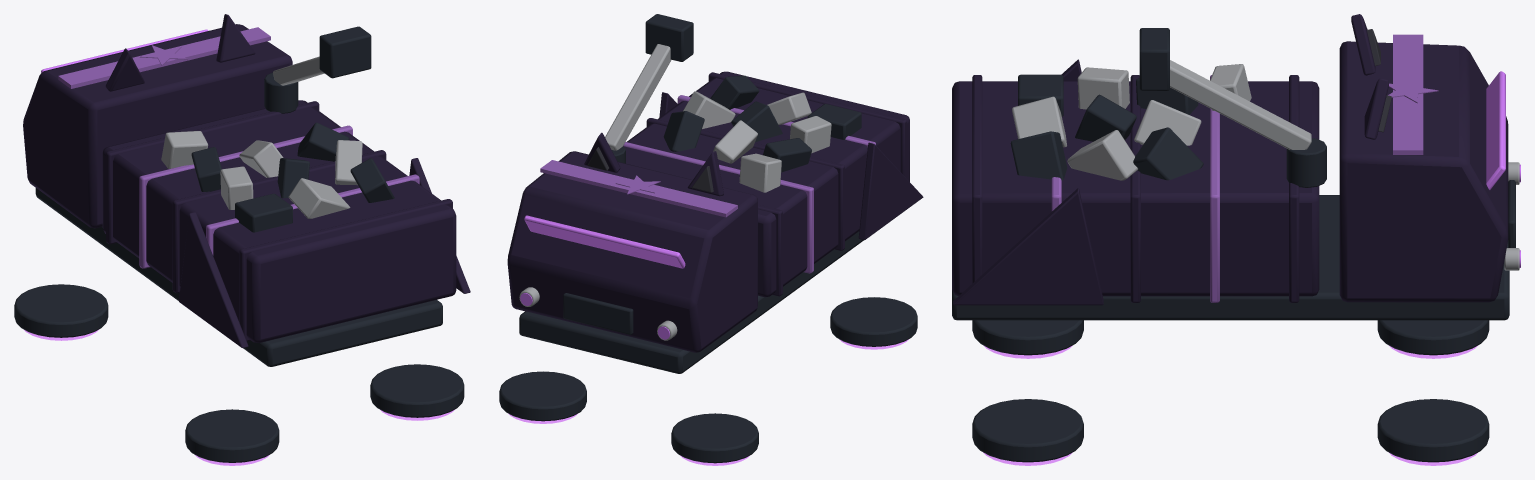
The model's file is katzen_sammler.glb.
The picture shows the model from 3 angles, left to right: view 1: azimuth 30°, elevation 25°; view 2: azimuth 150°, elevation 25°; view 3: azimuth 270°, elevation 25°; orthographic projection. The views are drawn at different scales.
Visible parts, largest first — view 1: bin, cab, frame, pad_1_-1, pad_-1_1, pad_-1_-1, fin_-1, cab_roof_stripe, claw, rib_0, scrap_0, rib_4 (+17 smaller); view 2: cab, bin, frame, pad_-1_-1, pad_1_1, pad_-1_1, fin_-1, cab_roof_stripe, cab_window, arm, grill, claw (+16 smaller); view 3: bin, cab, frame, fin_1, pad_1_1, pad_1_-1, arm, pad_-1_1, pad_-1_-1, cab_roof_stripe, scrap_8, rib_0 (+17 smaller).
Part boxes in pixels (<box>): bin: <box>102,100,456,342</box>; cab: <box>23,24,292,228</box>; frame: <box>35,188,442,366</box>; pad_1_-1: <box>370,364,464,417</box>; pad_-1_1: <box>14,284,108,337</box>; pad_-1_-1: <box>185,409,279,462</box>; fin_-1: <box>178,212,248,347</box>; cab_roof_stripe: <box>58,27,270,88</box>; claw: <box>319,26,371,78</box>; rib_0: <box>239,199,452,341</box>; scrap_0: <box>235,193,292,232</box>; rib_4: <box>106,101,319,244</box>; cab: <box>507,151,757,352</box>; bin: <box>624,71,909,297</box>; frame: <box>519,231,863,373</box>; pad_-1_-1: <box>830,297,917,346</box>; pad_1_1: <box>499,371,586,421</box>; pad_-1_1: <box>671,413,758,463</box>; fin_-1: <box>858,142,923,240</box>; cab_roof_stripe: <box>540,160,737,217</box>; cab_window: <box>524,215,685,268</box>; arm: <box>605,44,671,150</box>; grill: <box>563,293,633,334</box>; claw: <box>645,14,693,61</box>; bin: <box>952,81,1319,296</box>; cab: <box>1339,41,1508,302</box>; frame: <box>952,195,1509,320</box>; fin_1: <box>953,188,1103,305</box>; pad_1_1: <box>1377,399,1489,462</box>; pad_1_-1: <box>972,399,1083,462</box>; arm: <box>1170,60,1311,149</box>; pad_-1_1: <box>1377,320,1489,355</box>; pad_-1_-1: <box>972,320,1083,355</box>; cab_roof_stripe: <box>1393,34,1423,154</box>; scrap_8: <box>1133,127,1203,180</box>; rib_0: <box>972,75,982,283</box>.
Bounding box in the file's own units: 1.44 × 1.72 × 2.25.
